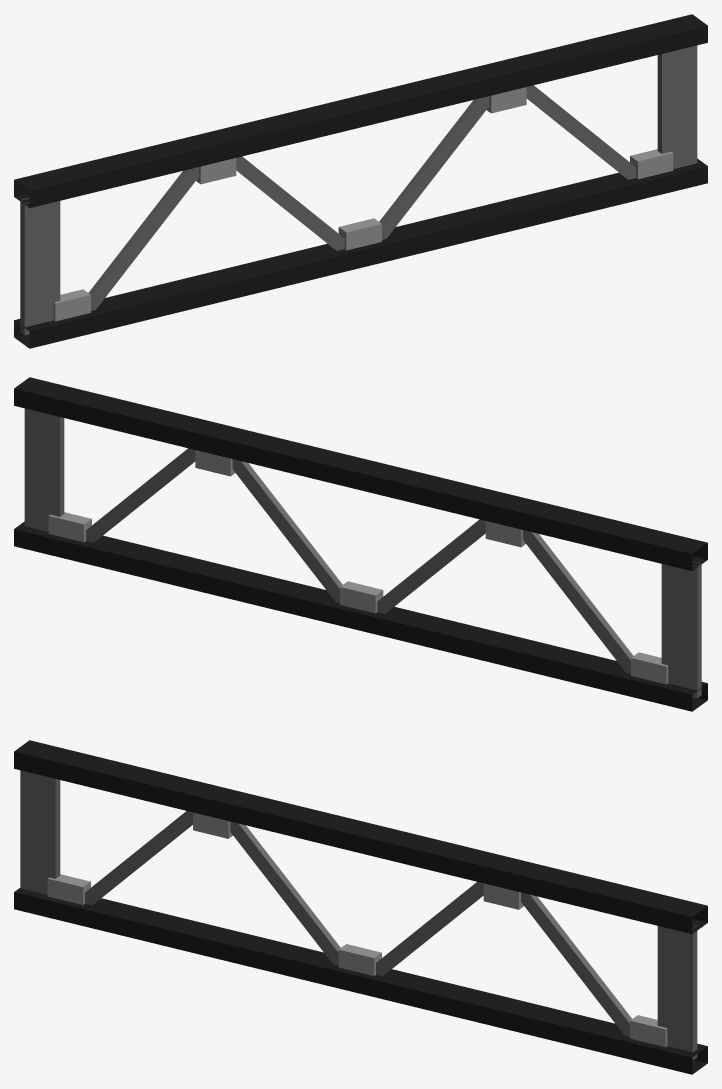
The model's file is ceiling_junk_A.FBX.
3 renders of one model, top to bottom at view 1: azimuth 30°, elevation 25°; view 2: azimuth 150°, elevation 25°; view 3: azimuth 330°, elevation 25°, orthographic.
Visible parts, largest first — view 1: ceiling_junk_A; view 2: ceiling_junk_A; view 3: ceiling_junk_A.
Part boxes in pixels (box(x1,y1,x2,y2)): ceiling_junk_A: box(14, 14, 707, 348); ceiling_junk_A: box(14, 377, 707, 711); ceiling_junk_A: box(14, 740, 707, 1074).
Bounding box in the file's own units: 228 × 50.52 × 9.08.
